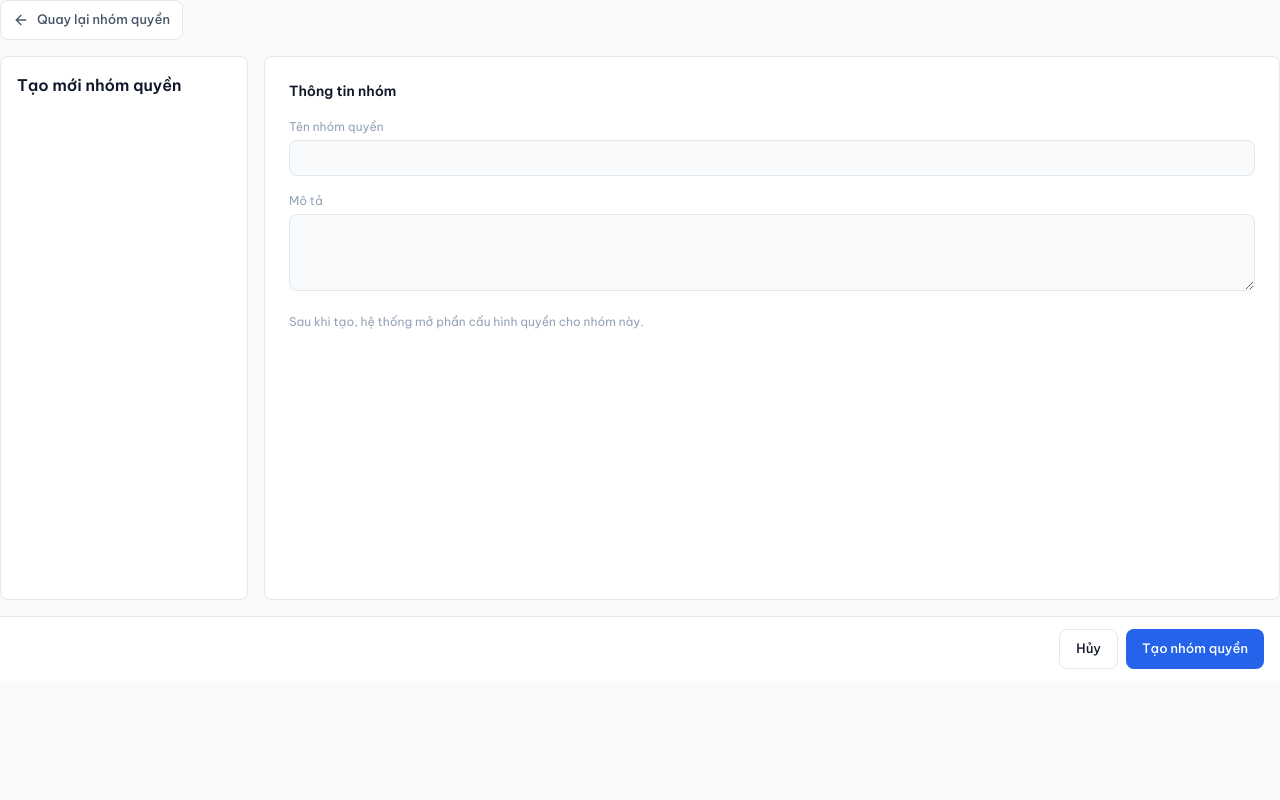
Test: NewRoleForm (/system/roles/new) › tên trống → lỗi tiếng Việt (aria-invalid + aria-describedby), không gọi API
Click the button "Tạo nhóm quyền" at (1195, 649), box 1126,629 -> 1264,669
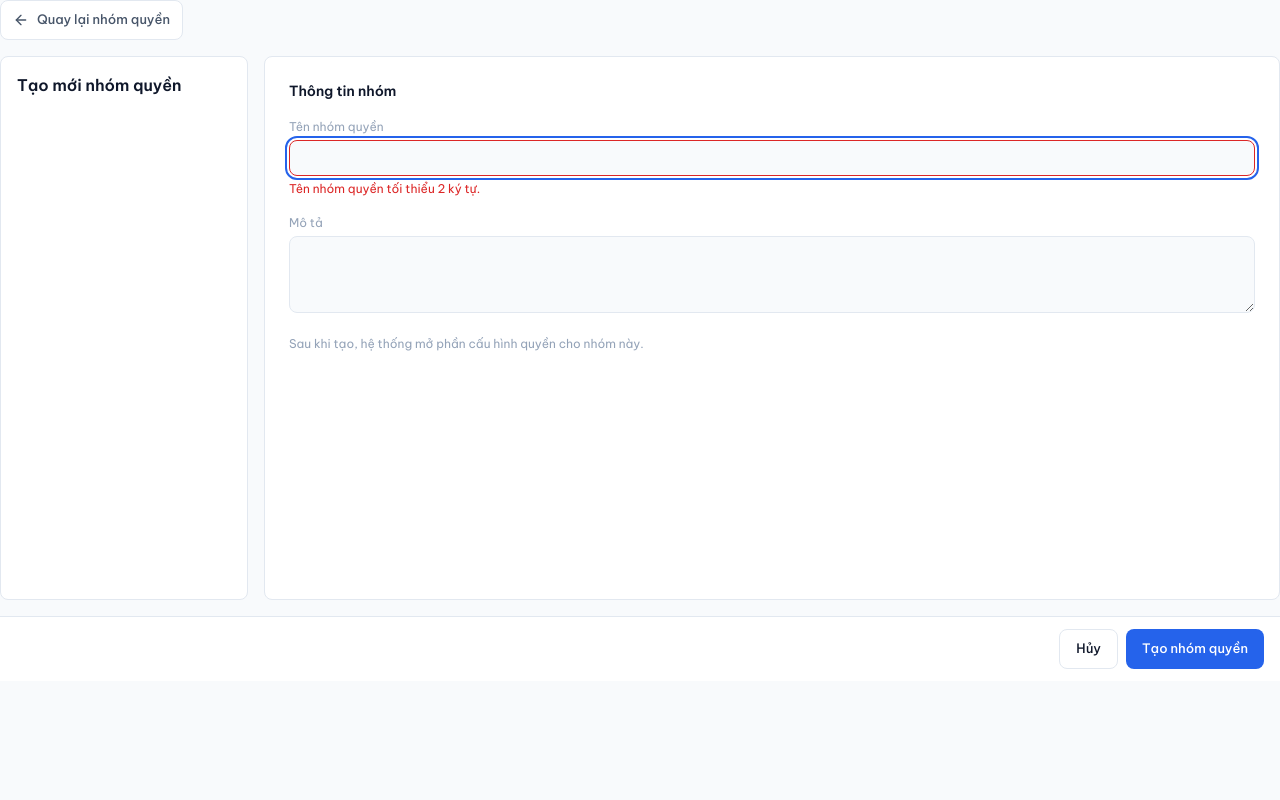
Result: the text "Tên nhóm quyền tối thiểu 2 ký tự." is shown at 289,181 -> 480,196
